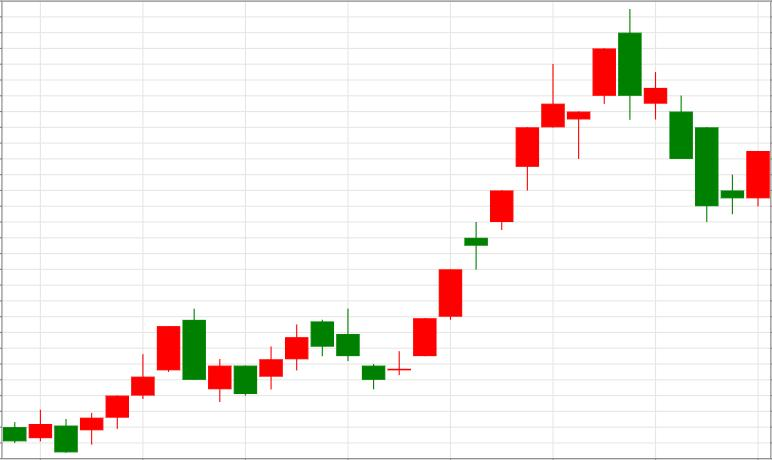bearish_engulfing_fall: (388, 8, 641, 374), (80, 309, 207, 444)
